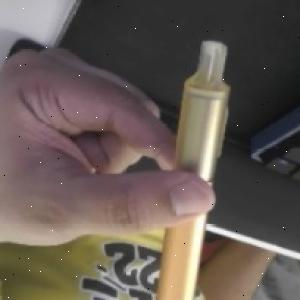Golden-E-Ciggirate: (152, 40, 229, 300)
